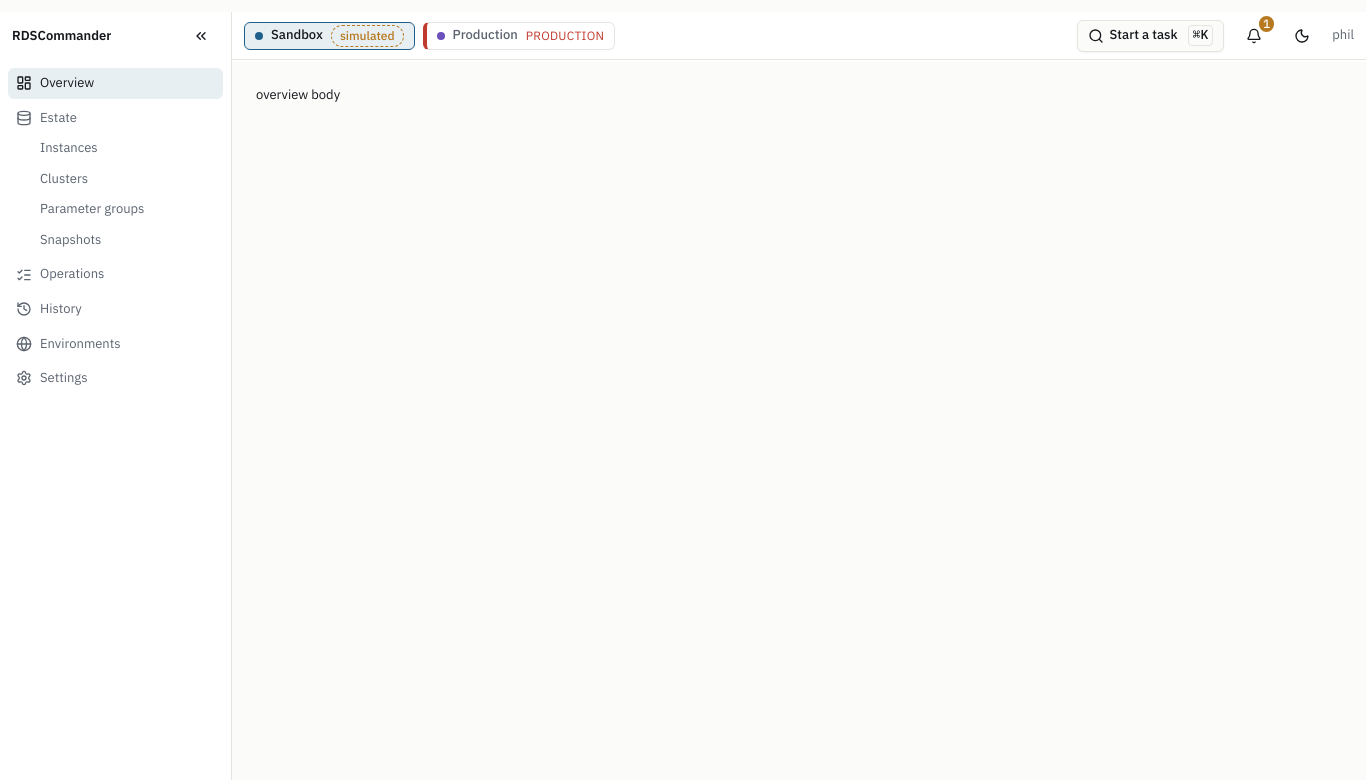
Test: Shell › does not show the previous environment's count while the new environment's count loads
Expected: the button named "Needs attention: 1" is shown, left=1236, top=18, right=1272, bottom=54
Click the button "Production production" at (519, 36), box left=423, top=22, right=615, bottom=50
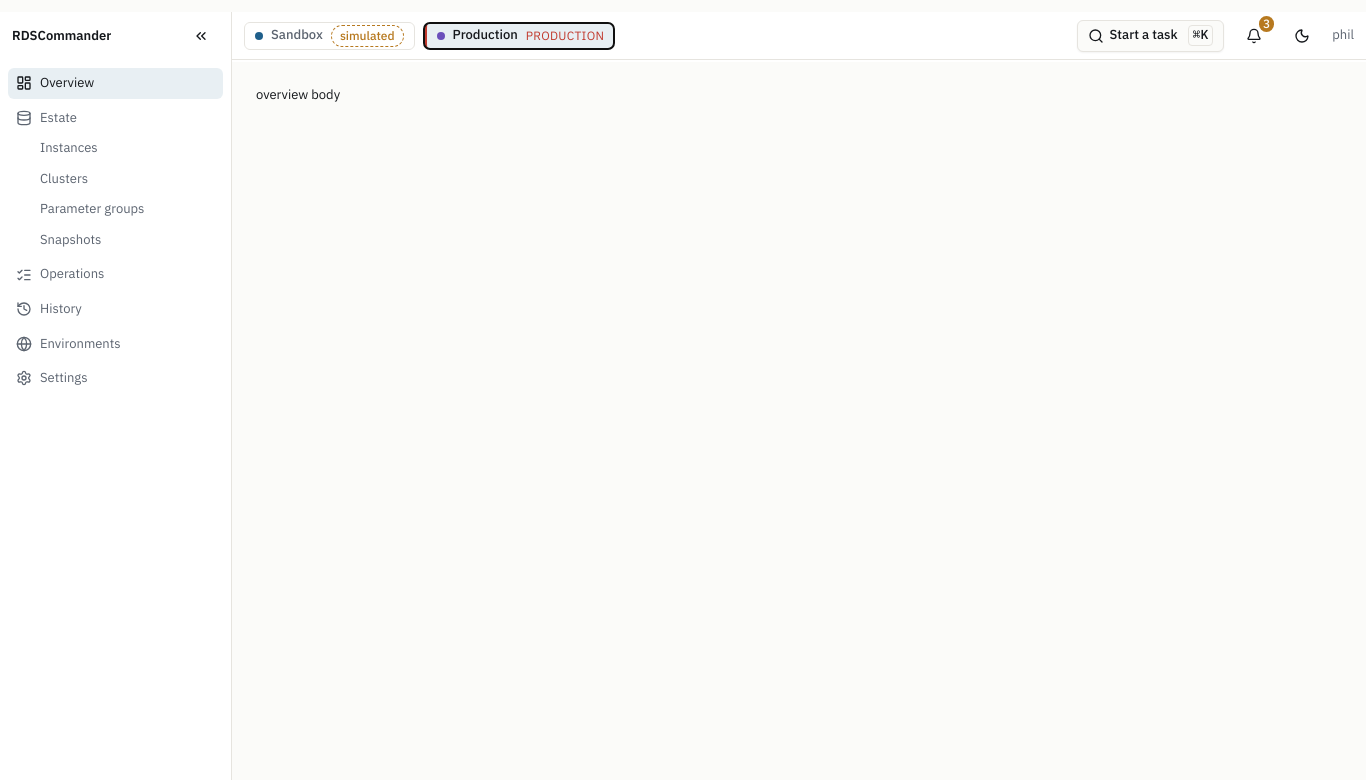
Now the button named "Needs attention: 3" is shown, box left=1236, top=18, right=1272, bottom=54
